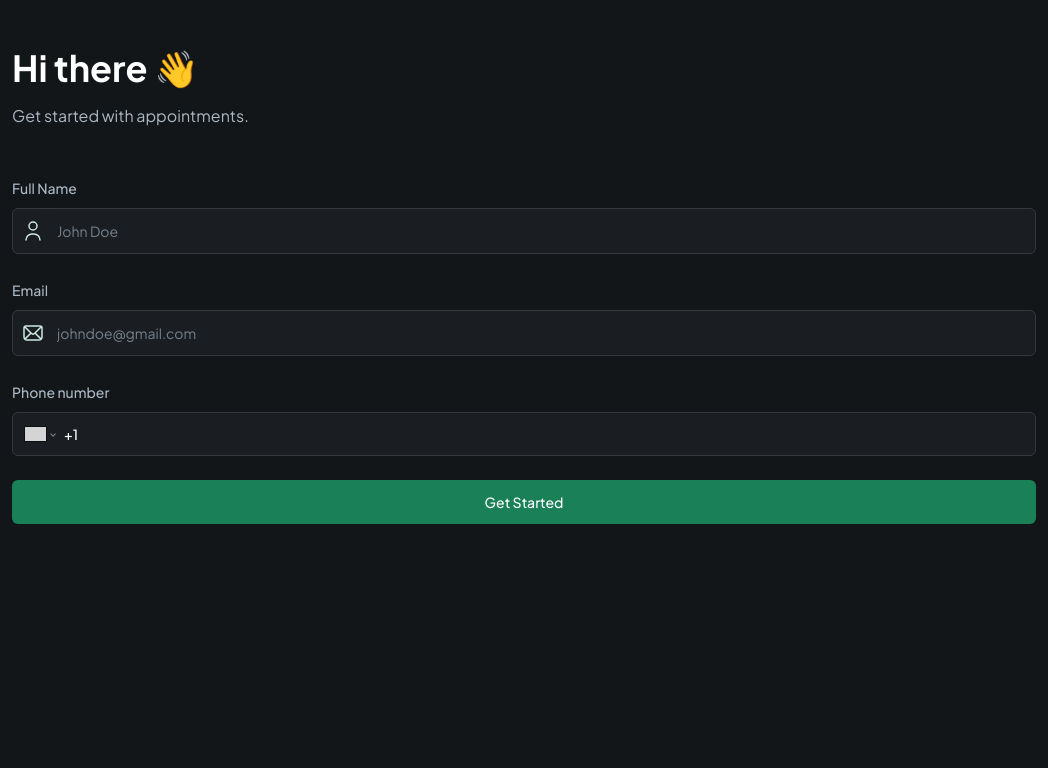
Test: PatientForm › VAL-15 shows field errors and does not call the server when empty
Click the button "Get Started".
click(524, 502)  # box x1=12 y1=480 x2=1036 y2=524
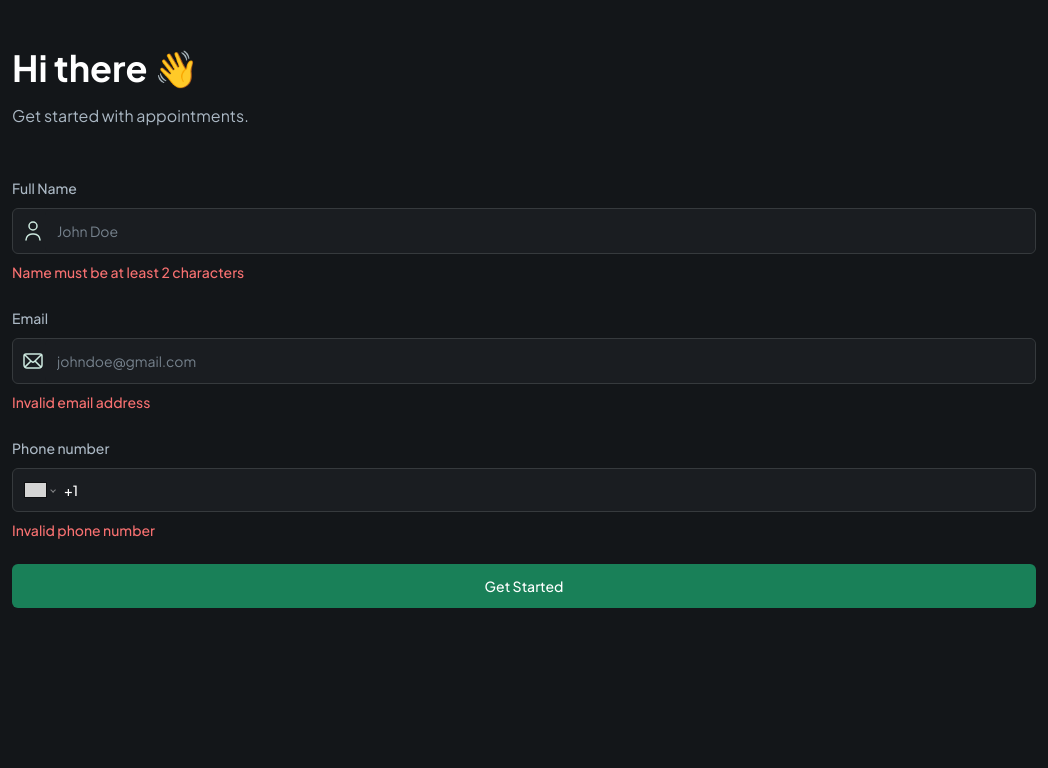
Expected: the text "Name must be at least 2 characters" is shown, x1=12 y1=263 x2=244 y2=281
Expected: the text "Invalid email address" is shown, x1=12 y1=393 x2=150 y2=411
Expected: the text "Invalid phone number" is shown, x1=12 y1=521 x2=155 y2=539
